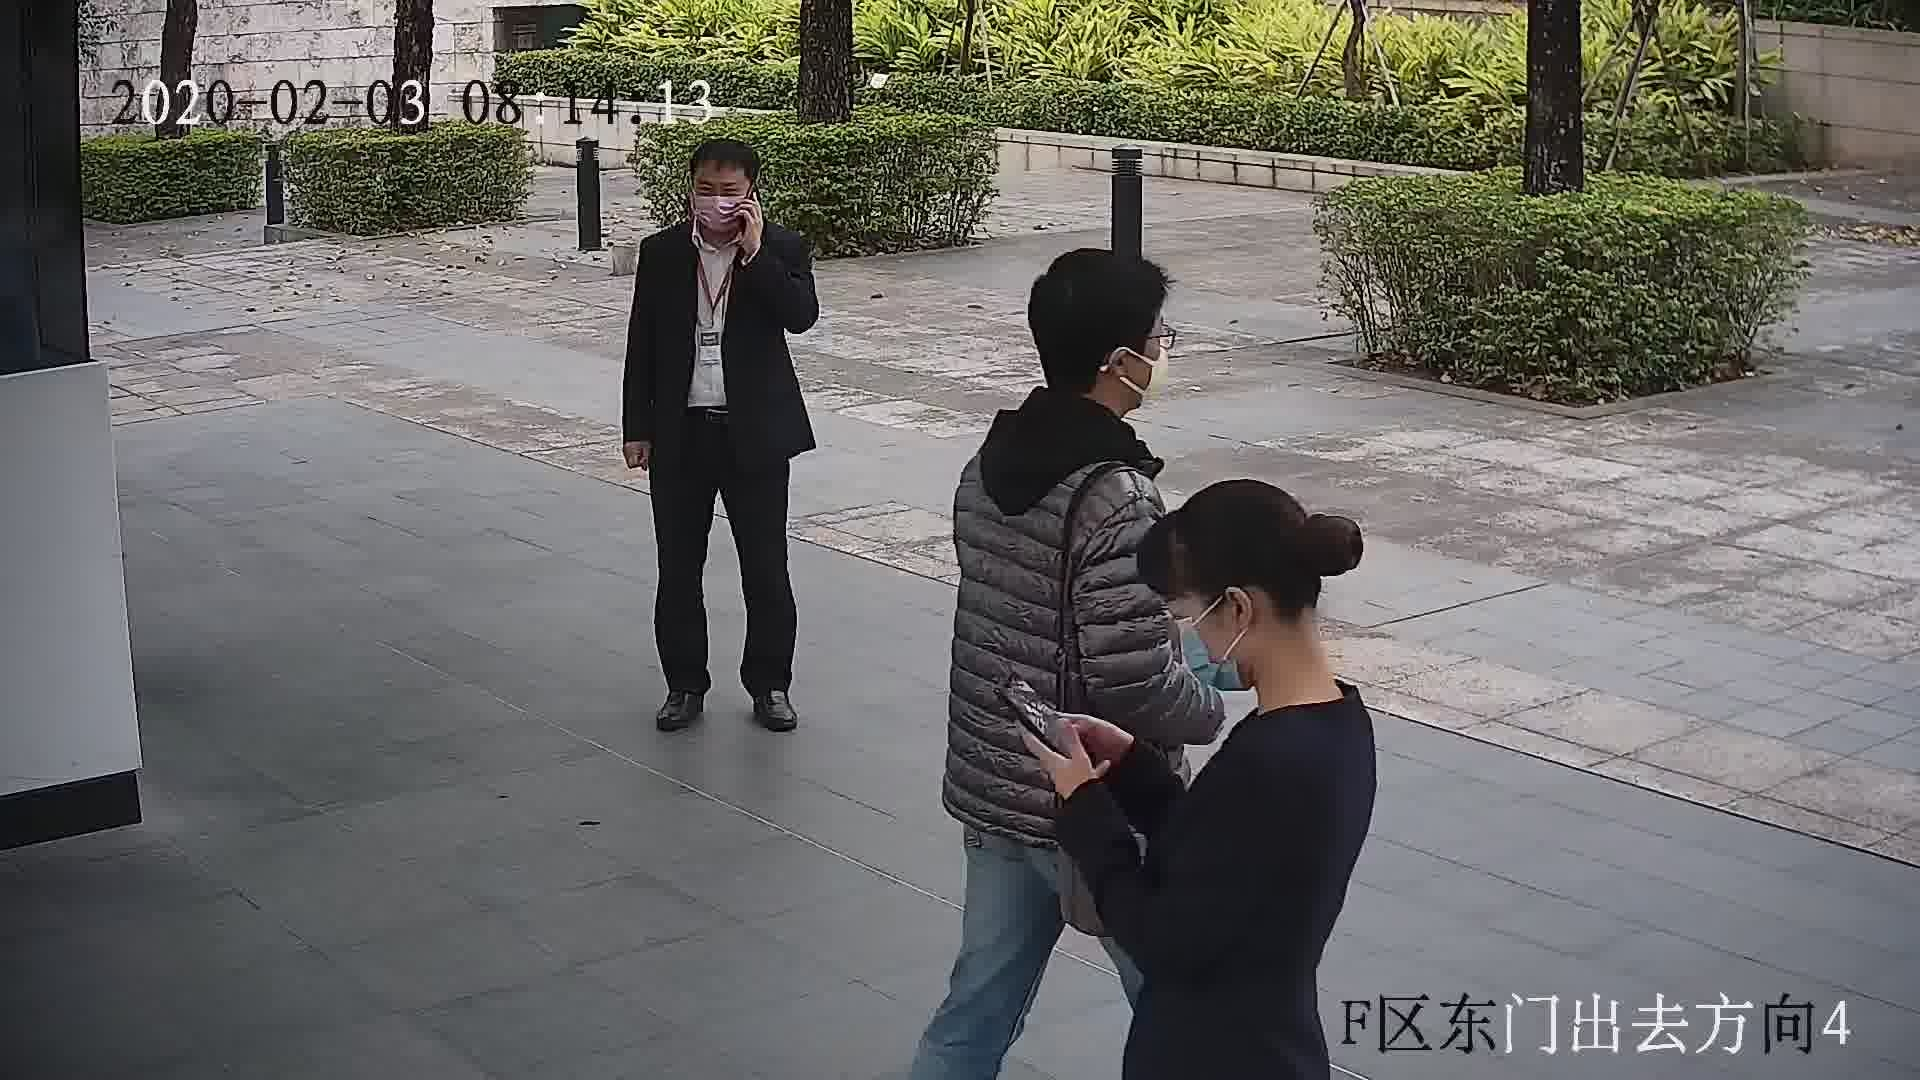face: (1156, 573, 1258, 688), (1115, 309, 1177, 411), (687, 164, 763, 240)
mask: (1168, 613, 1240, 688), (690, 192, 751, 232), (1139, 344, 1175, 404)
person: (1157, 460, 1402, 823), (963, 241, 1172, 532), (640, 136, 809, 286)
